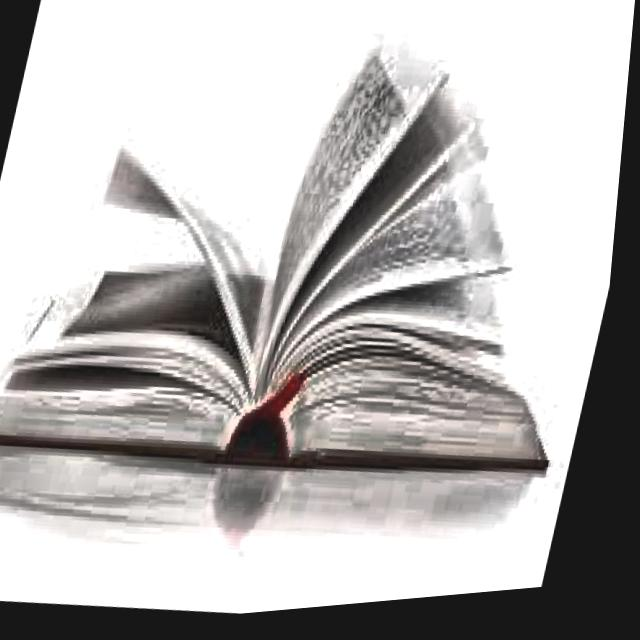Paper: (0, 0, 639, 533), (251, 26, 456, 422), (14, 238, 282, 420)
